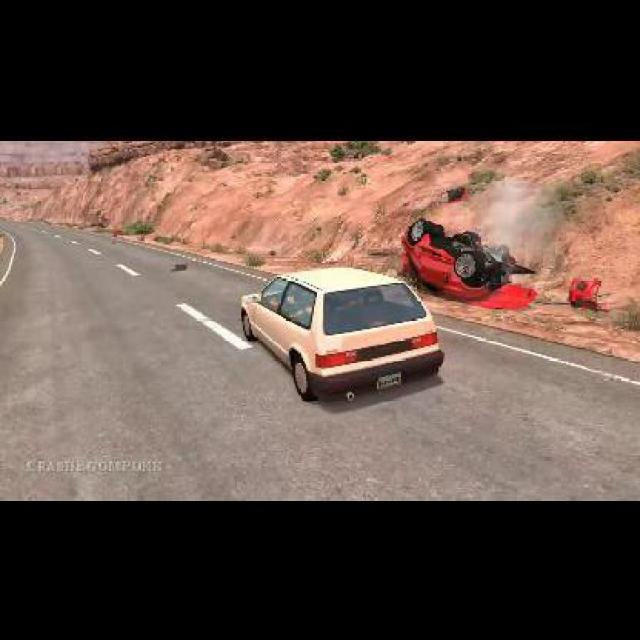accident: (397, 215, 532, 308)
